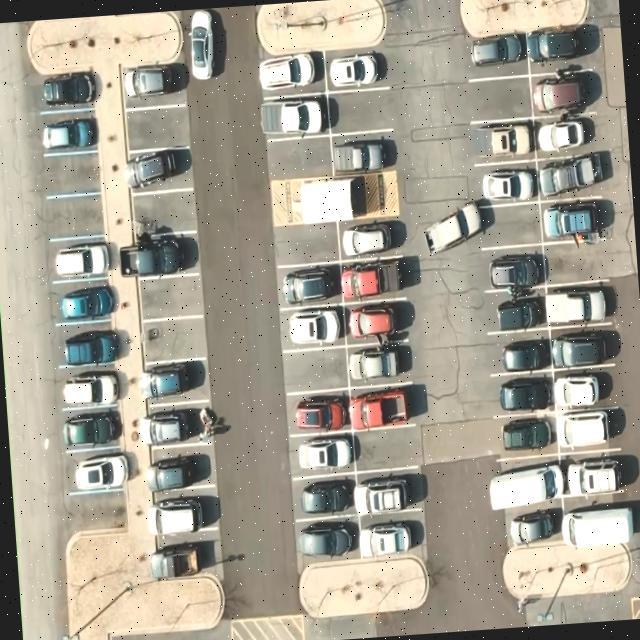space-empty: (541, 236, 612, 287), (352, 424, 422, 474), (135, 271, 202, 322), (139, 314, 206, 364), (327, 86, 396, 134), (40, 192, 106, 242), (462, 75, 531, 122), (472, 202, 542, 248), (123, 102, 189, 150), (130, 188, 196, 236), (38, 149, 102, 198), (282, 347, 348, 393), (273, 220, 339, 266), (269, 134, 332, 180), (67, 491, 126, 536)
space-occupied: (562, 493, 638, 550), (120, 228, 198, 283), (488, 457, 563, 512), (560, 448, 632, 502), (543, 281, 617, 332), (143, 440, 215, 492), (145, 489, 218, 540), (536, 153, 608, 204), (319, 46, 392, 96), (344, 336, 414, 388), (352, 467, 423, 518), (538, 196, 606, 249), (524, 22, 596, 72), (262, 90, 331, 142), (337, 254, 410, 303), (527, 70, 599, 119), (348, 380, 419, 429), (142, 398, 213, 447), (466, 116, 535, 166), (140, 356, 209, 406), (532, 111, 600, 161), (47, 234, 113, 285), (556, 405, 623, 455), (464, 27, 528, 79), (50, 358, 114, 410), (47, 279, 116, 327), (56, 321, 122, 371), (152, 534, 222, 581), (257, 49, 325, 97), (280, 303, 345, 353), (64, 446, 129, 496), (359, 510, 426, 558), (486, 371, 553, 419), (490, 412, 558, 459), (126, 145, 192, 193), (472, 160, 540, 206), (329, 129, 394, 177), (57, 406, 124, 452), (548, 324, 616, 369), (485, 328, 551, 374), (287, 389, 350, 437), (289, 431, 356, 476), (552, 364, 616, 411), (37, 108, 98, 157), (278, 260, 340, 308), (292, 472, 354, 520), (334, 218, 406, 259), (294, 514, 358, 560), (63, 448, 127, 494), (502, 503, 563, 551), (482, 247, 544, 293), (342, 298, 408, 340), (484, 290, 547, 333), (120, 61, 186, 102), (38, 70, 96, 112)
